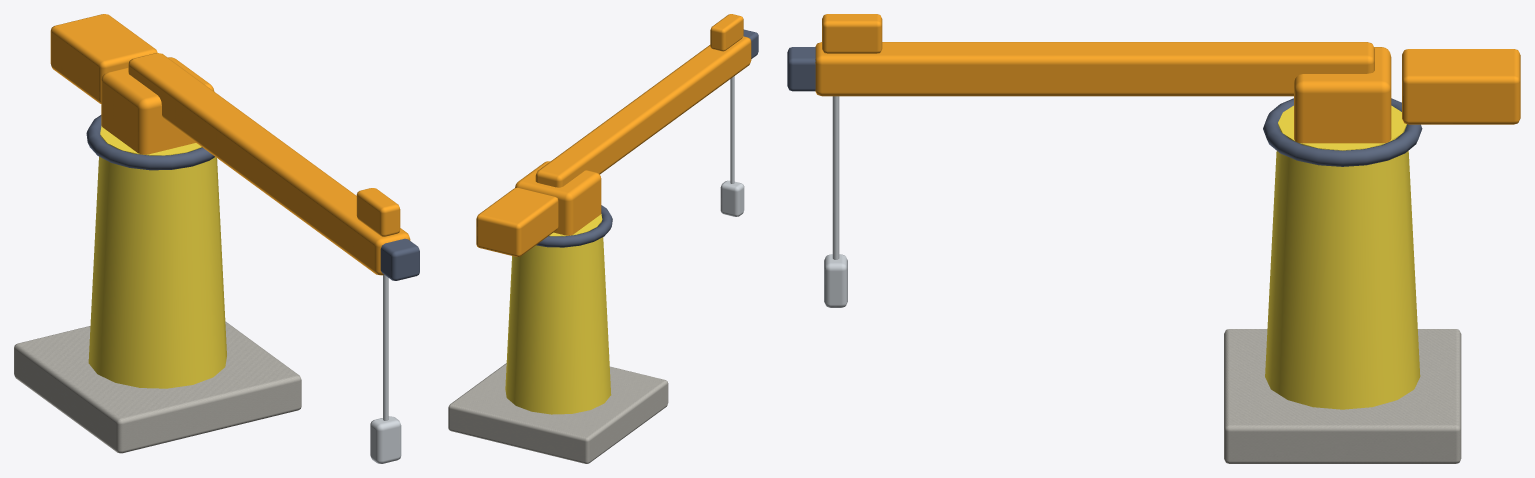
Rendered from hero-shooter-harbour-payload-harbour-crane-c85b5c11__27714.glb.
3 views of the same model, side by side, from view 1: azimuth 30°, elevation 25°; view 2: azimuth 150°, elevation 25°; view 3: azimuth 270°, elevation 25° (orthographic). The views are drawn at different scales.
Parts seen in each view (by area): view 1: harbour-crane, arm/attack, arm/ink; view 2: harbour-crane, arm/attack; view 3: harbour-crane, arm/attack, arm/ink.
Part boxes in pixels (bbox=[...]): harbour-crane: bbox=[14, 115, 401, 463]; arm/attack: bbox=[50, 14, 410, 275]; arm/ink: bbox=[380, 238, 419, 280]; harbour-crane: bbox=[448, 76, 744, 463]; arm/attack: bbox=[476, 14, 751, 256]; harbour-crane: bbox=[824, 96, 1461, 463]; arm/attack: bbox=[815, 14, 1520, 143]; arm/ink: bbox=[787, 47, 815, 91].
Size of the model in its own units: 2.2 by 4.08 by 6.8.
5 materials, 1 textured.
